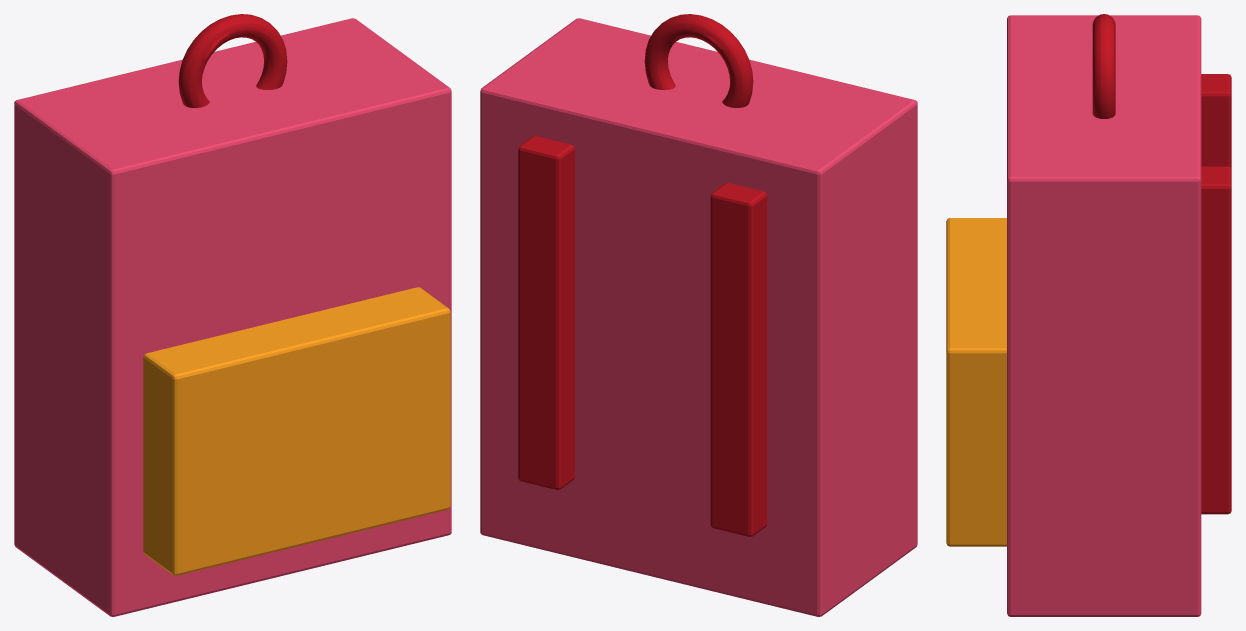
Rendered from school_bag.glb.
The picture shows the model from 3 angles, left to right: view 1: azimuth 30°, elevation 25°; view 2: azimuth 150°, elevation 25°; view 3: azimuth 270°, elevation 25°; orthographic projection.
Parts seen in each view (by area): view 1: school_bag; view 2: school_bag; view 3: school_bag.
Boxes of the visible parts, left/top/right/bottom form: school_bag: left=14, top=14, right=451, bottom=616; school_bag: left=480, top=14, right=917, bottom=616; school_bag: left=946, top=14, right=1231, bottom=616.
Size of the model in its own units: 0.32 by 0.4694 by 0.235.
